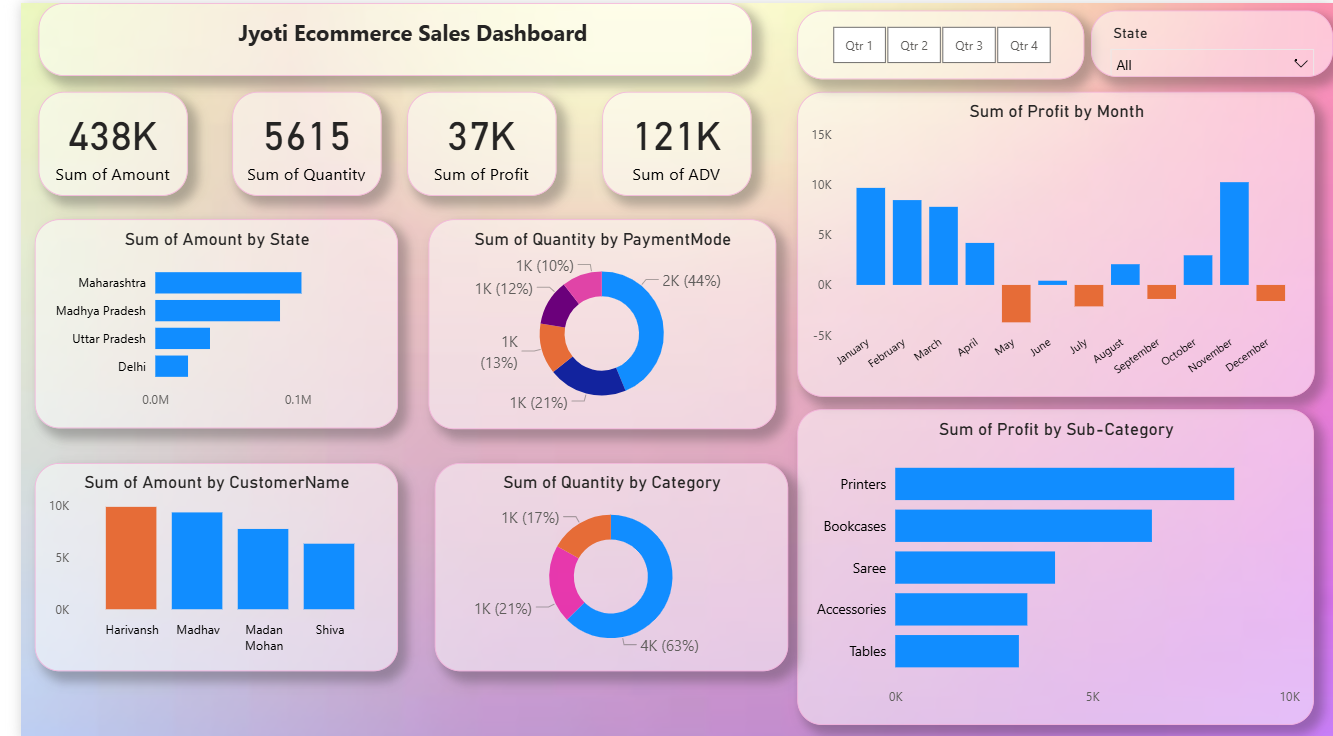

Layout of this report page (visuals, bound fields, positions):
{"tool":"powerbi","page":{"name":"Page 1","canvas":[1280,720],"ordinal":0},"visuals":[{"type":"textbox","box":[16.5,0,695.7,71.4],"z":0},{"type":"columnChart","fields":{"Category":["Orders.Order Date.Variation.Date Hierarchy.Month"],"Y":["Details.Profit"]},"box":[757.5,86.4,505,297.8],"z":1000},{"type":"barChart","fields":{"Category":["Details.Sub-Category"],"Y":["Details.Profit"]},"box":[757.6,396.9,504.3,307.6],"z":2000},{"type":"donutChart","fields":{"Y":["Details.Quantity"],"Category":["Details.Category"]},"box":[403.4,448.7,344.4,203.1],"z":3000},{"type":"donutChart","fields":{"Y":["Details.Quantity"],"Category":["Details.PaymentMode"]},"box":[397.9,211.3,338.9,204.5],"z":4000},{"type":"card","fields":{"Values":["Details.Amount"]},"box":[16.5,86.4,145.5,101.5],"z":5000},{"type":"card","fields":{"Values":["Details.Quantity"]},"box":[205.8,86.4,145.5,101.5],"z":6000},{"type":"card","fields":{"Values":["Details.Profit"]},"box":[377.4,86.4,145.5,101.5],"z":7000},{"type":"card","fields":{"Values":["Details.ADV"]},"box":[566.7,86.4,145.5,101.5],"z":8000},{"type":"barChart","fields":{"Category":["Orders.State"],"Y":["Details.Amount"]},"box":[13.3,211.1,354.7,203.9],"z":9000},{"type":"columnChart","fields":{"Category":["Orders.CustomerName"],"Y":["Details.Amount"]},"box":[13.7,448.7,354,203.1],"z":10000},{"type":"slicer","fields":{"Values":["Orders.Order Date.Variation.Date Hierarchy.Quarter"]},"box":[757.5,6.9,279.9,67.2],"z":11000},{"type":"slicer","fields":{"Values":["Orders.State"]},"box":[1044.3,6.9,236,64.5],"z":11001}]}

Visuals, with their boxes in screenshot pixels (x1, y1, x2, y2), scaled from the page's 1280x720 canvas onto the 1333x736 screenshot:
textbox: BBox(17, 0, 742, 73)
columnChart - Orders.Order Date.Variation.Date Hierarchy.Month x Details.Profit: BBox(789, 88, 1315, 393)
barChart - Details.Sub-Category x Details.Profit: BBox(789, 406, 1314, 720)
donutChart - Details.Quantity x Details.Category: BBox(420, 459, 779, 666)
donutChart - Details.Quantity x Details.PaymentMode: BBox(414, 216, 767, 425)
card - Details.Amount: BBox(17, 88, 169, 192)
card - Details.Quantity: BBox(214, 88, 366, 192)
card - Details.Profit: BBox(393, 88, 545, 192)
card - Details.ADV: BBox(590, 88, 742, 192)
barChart - Orders.State x Details.Amount: BBox(14, 216, 383, 424)
columnChart - Orders.CustomerName x Details.Amount: BBox(14, 459, 383, 666)
slicer - Orders.Order Date.Variation.Date Hierarchy.Quarter: BBox(789, 7, 1080, 76)
slicer - Orders.State: BBox(1088, 7, 1332, 73)
